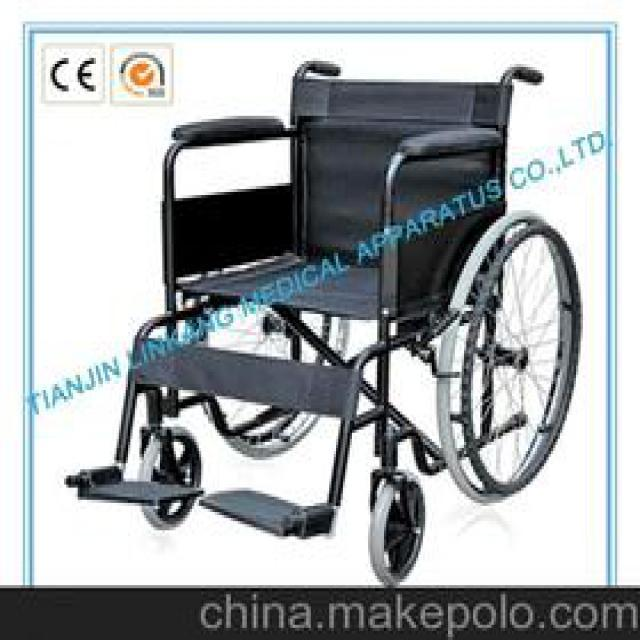wheelchair: (55, 55, 583, 579)
